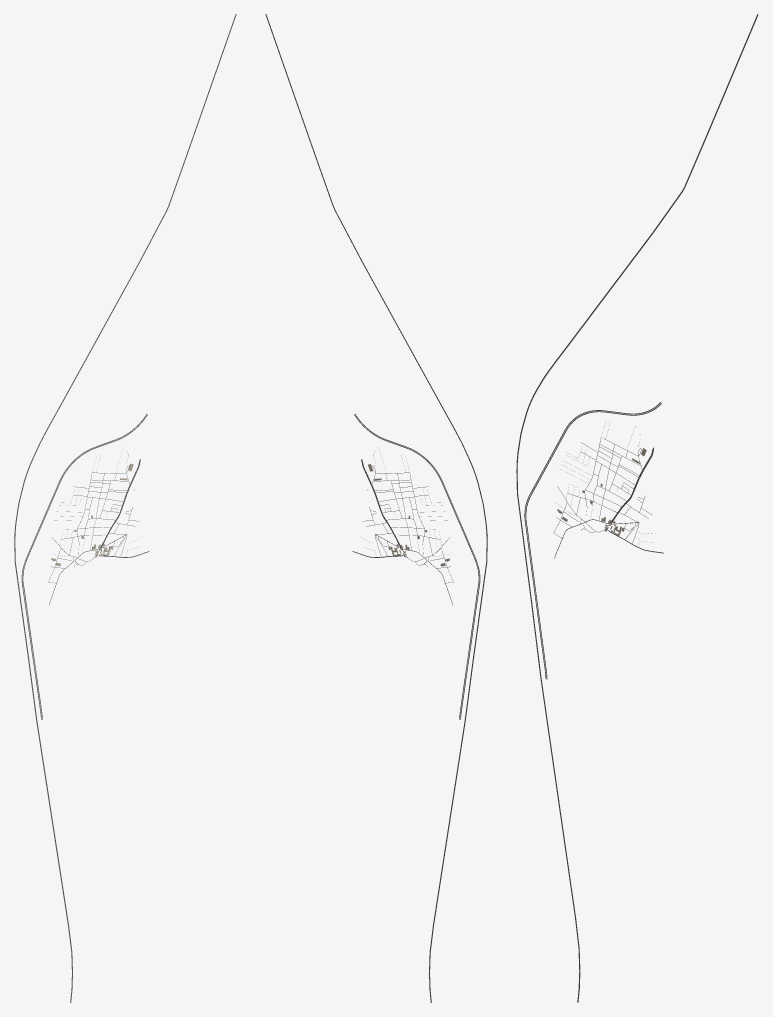
Rendered from historic-palestine-08_27_3496_3219.glb.
3 renders of one model, left to right at view 1: azimuth 30°, elevation 25°; view 2: azimuth 150°, elevation 25°; view 3: azimuth 330°, elevation 25°, orthographic. The views are drawn at different scales.
Visible parts, largest first — view 1: Road כביש חוצה ישראל; view 2: Road כביש חוצה ישראל; view 3: Road כביש חוצה ישראל.
Part boxes in pixels (x1,y1,x2,y2): Road כביש חוצה ישראל: [14, 14, 236, 1002]; Road כביש חוצה ישראל: [265, 14, 487, 1002]; Road כביש חוצה ישראל: [516, 14, 758, 1002].
Bounding box in the file's own units: 2480 × 10108 × 8.7.
